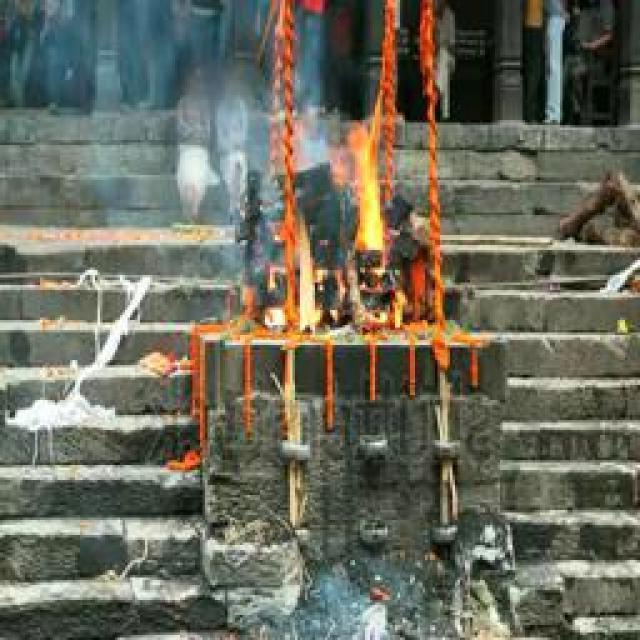Fire: (264, 102, 398, 340)
